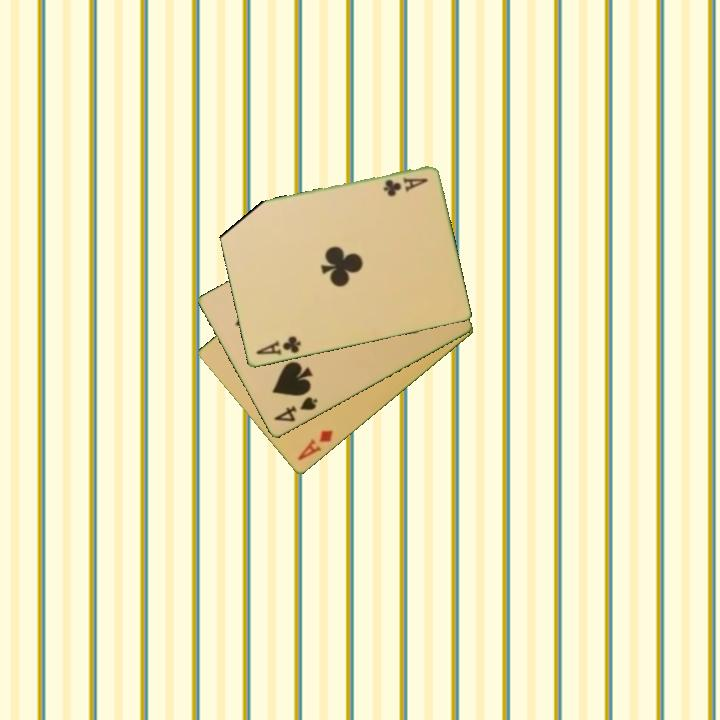4s: (270, 393, 320, 425)
Ac: (252, 333, 304, 358), (379, 174, 431, 199)
Ad: (294, 427, 336, 464)
